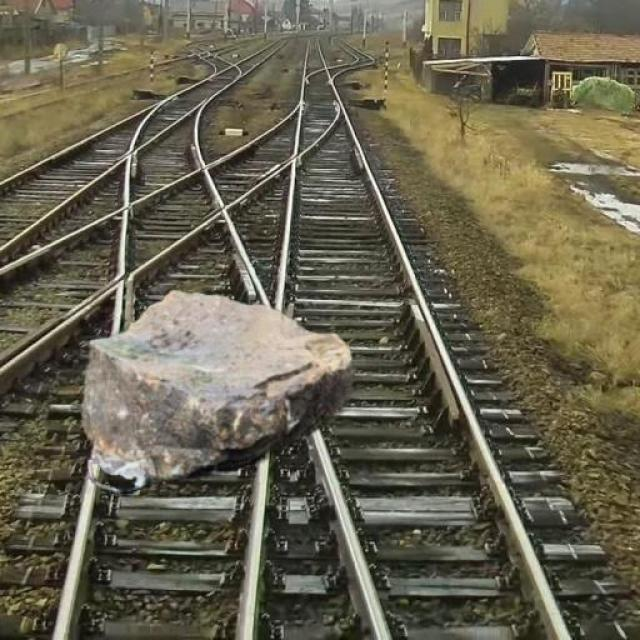Stone: (81, 284, 354, 491)
